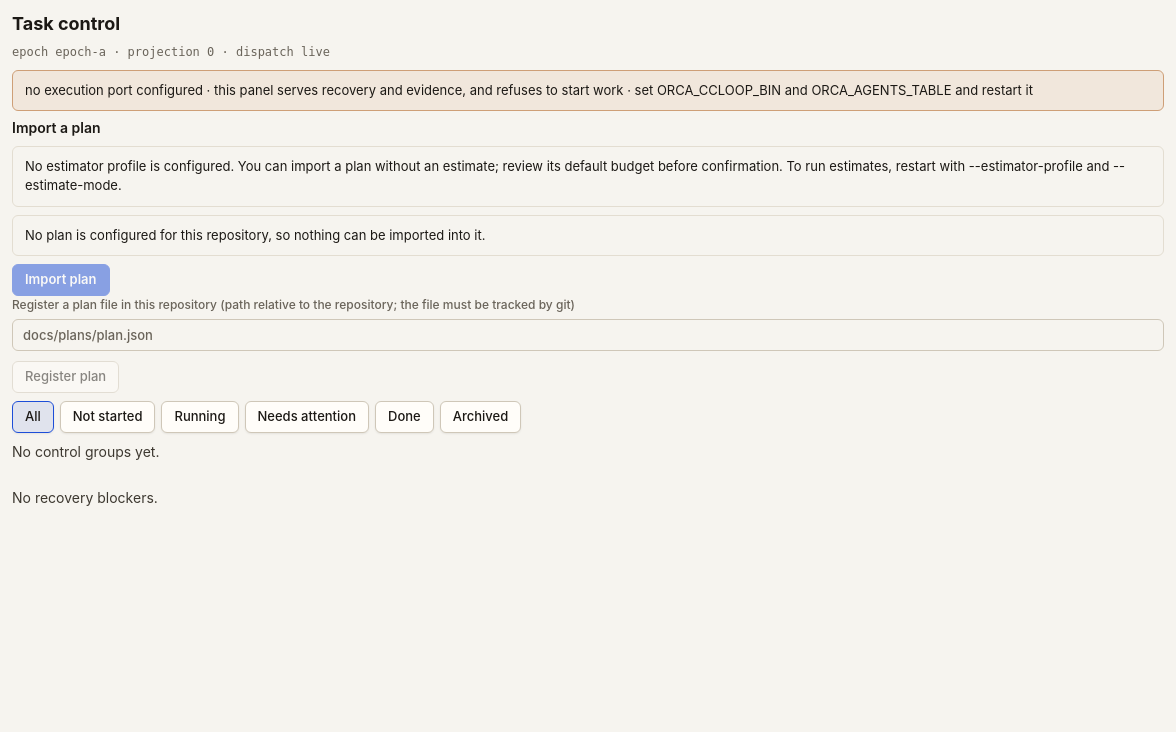
registering a plan file from the import form (spec 2026-10-21) › shows a refusal by its code and message
This screenshot has width=1176, height=732.
Type "plans/x.json" into the field at (588, 335), box 12,319 -> 1164,351
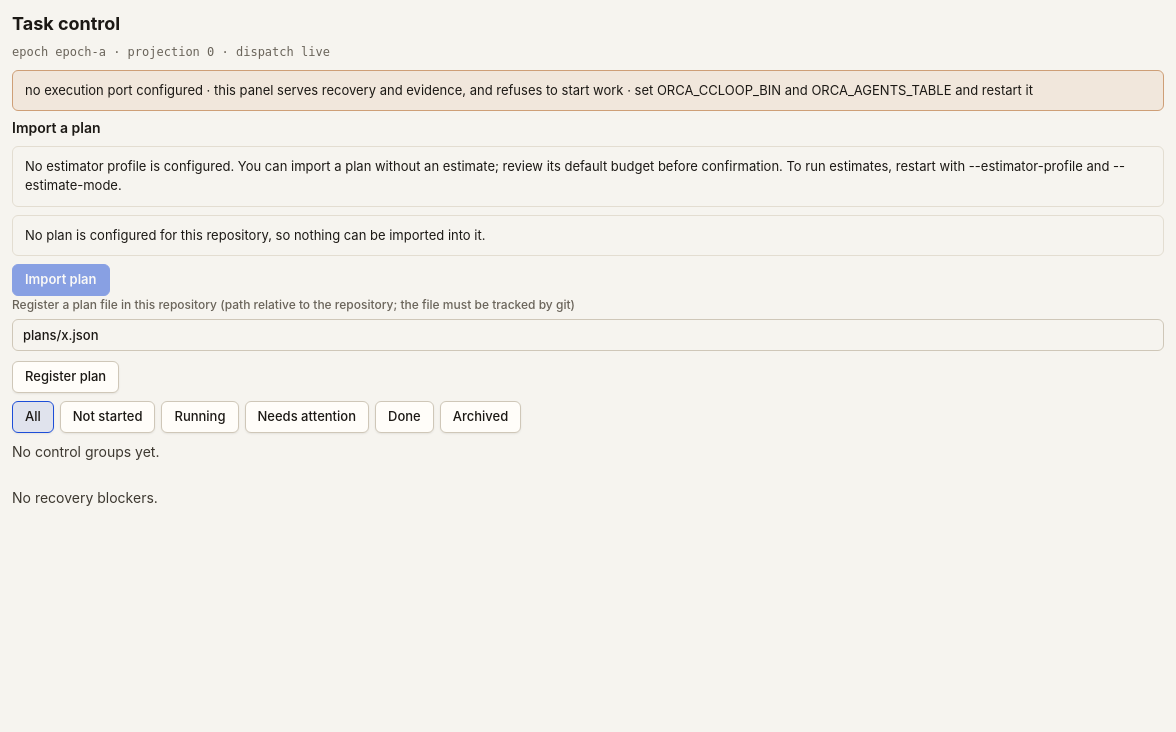
Click the button "Register plan" at (66, 377), box 12,361 -> 119,393
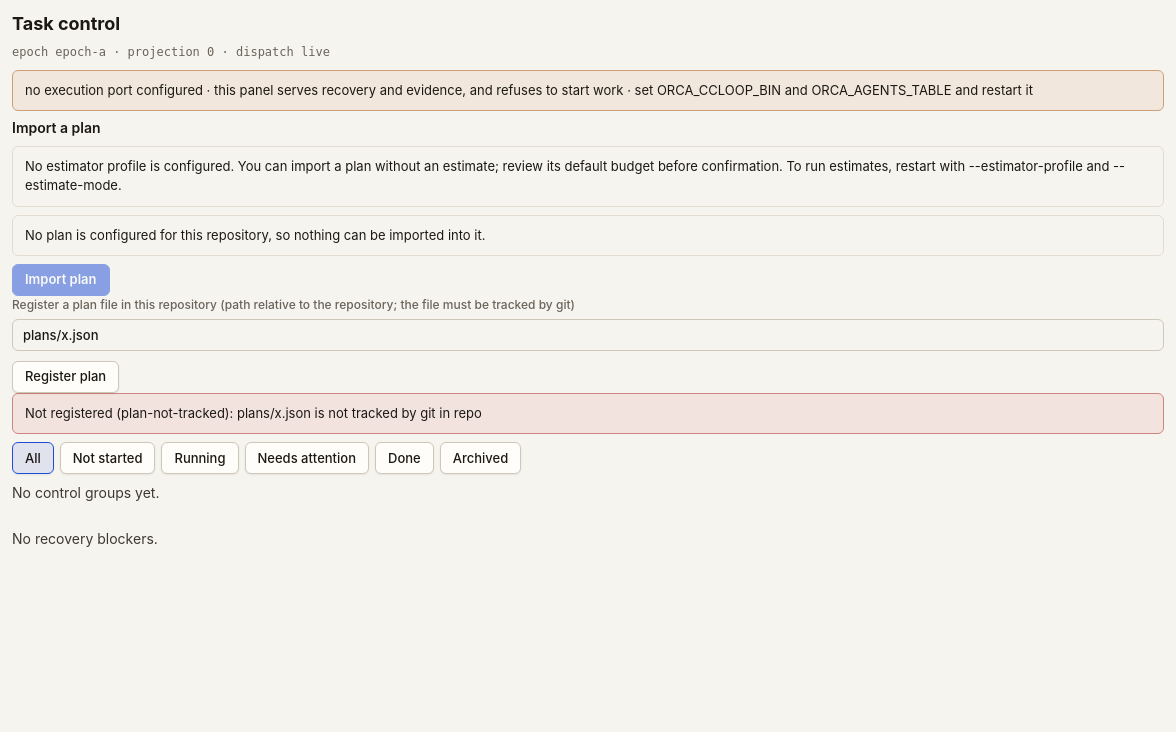
Expected: the message reads "Not registered (plan-not-tracked): plans/x.json is not tracked by git in repo", 25,405 -> 482,421
